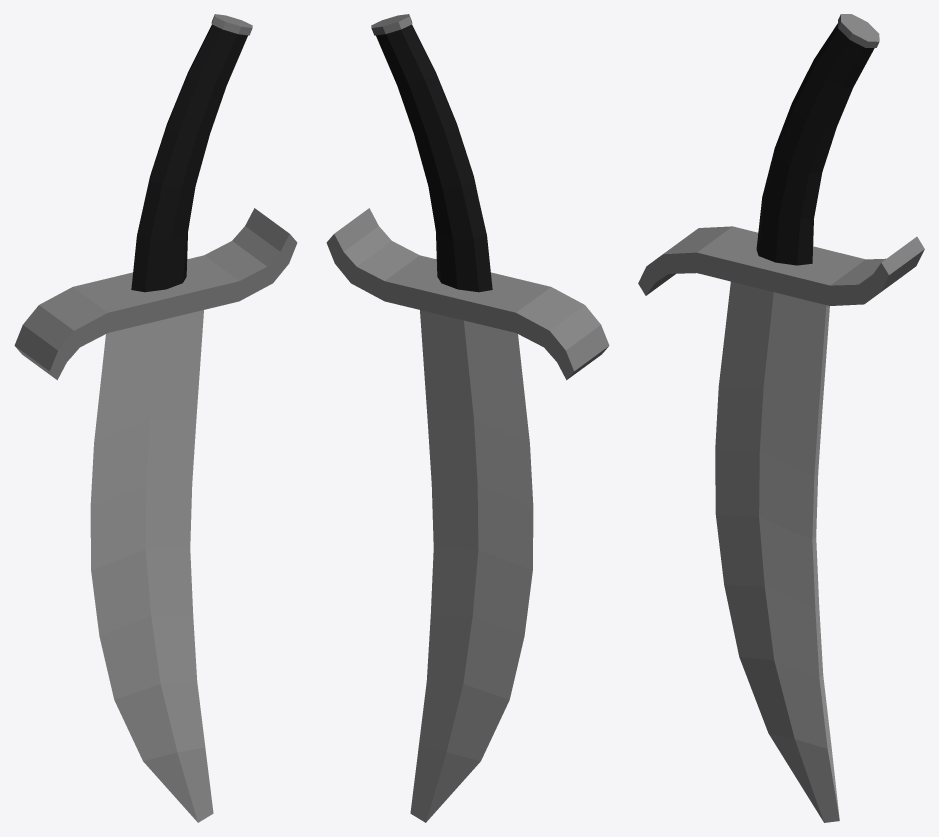
The model's file is dagger_1.fbx.
The picture shows the model from 3 angles, left to right: view 1: azimuth 30°, elevation 25°; view 2: azimuth 150°, elevation 25°; view 3: azimuth 330°, elevation 25°; orthographic projection.
Visible parts, largest first — view 1: Cylinder.002; view 2: Cylinder.002; view 3: Cylinder.002.
Boxes of the visible parts, x1,y1,x2,y2 form: Cylinder.002: [14, 14, 297, 822]; Cylinder.002: [326, 14, 609, 822]; Cylinder.002: [638, 14, 924, 822].
Size of the model in its own units: 0.6855 by 2.12 by 0.1694.
